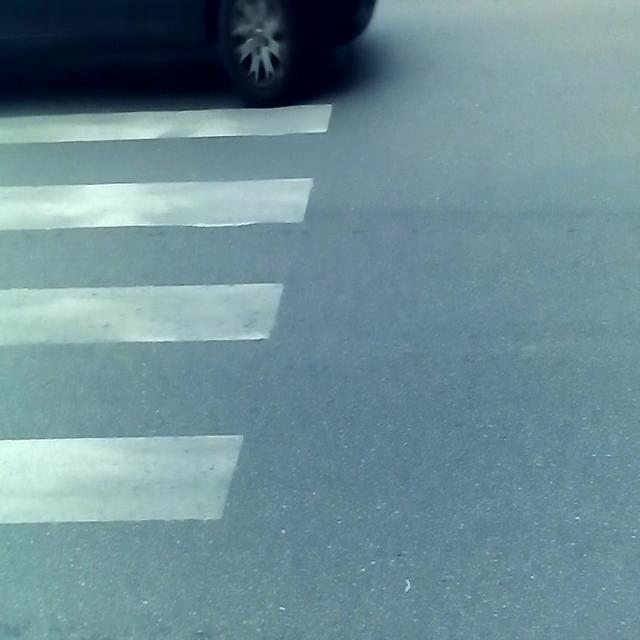crosswalk: (0, 102, 337, 640)
